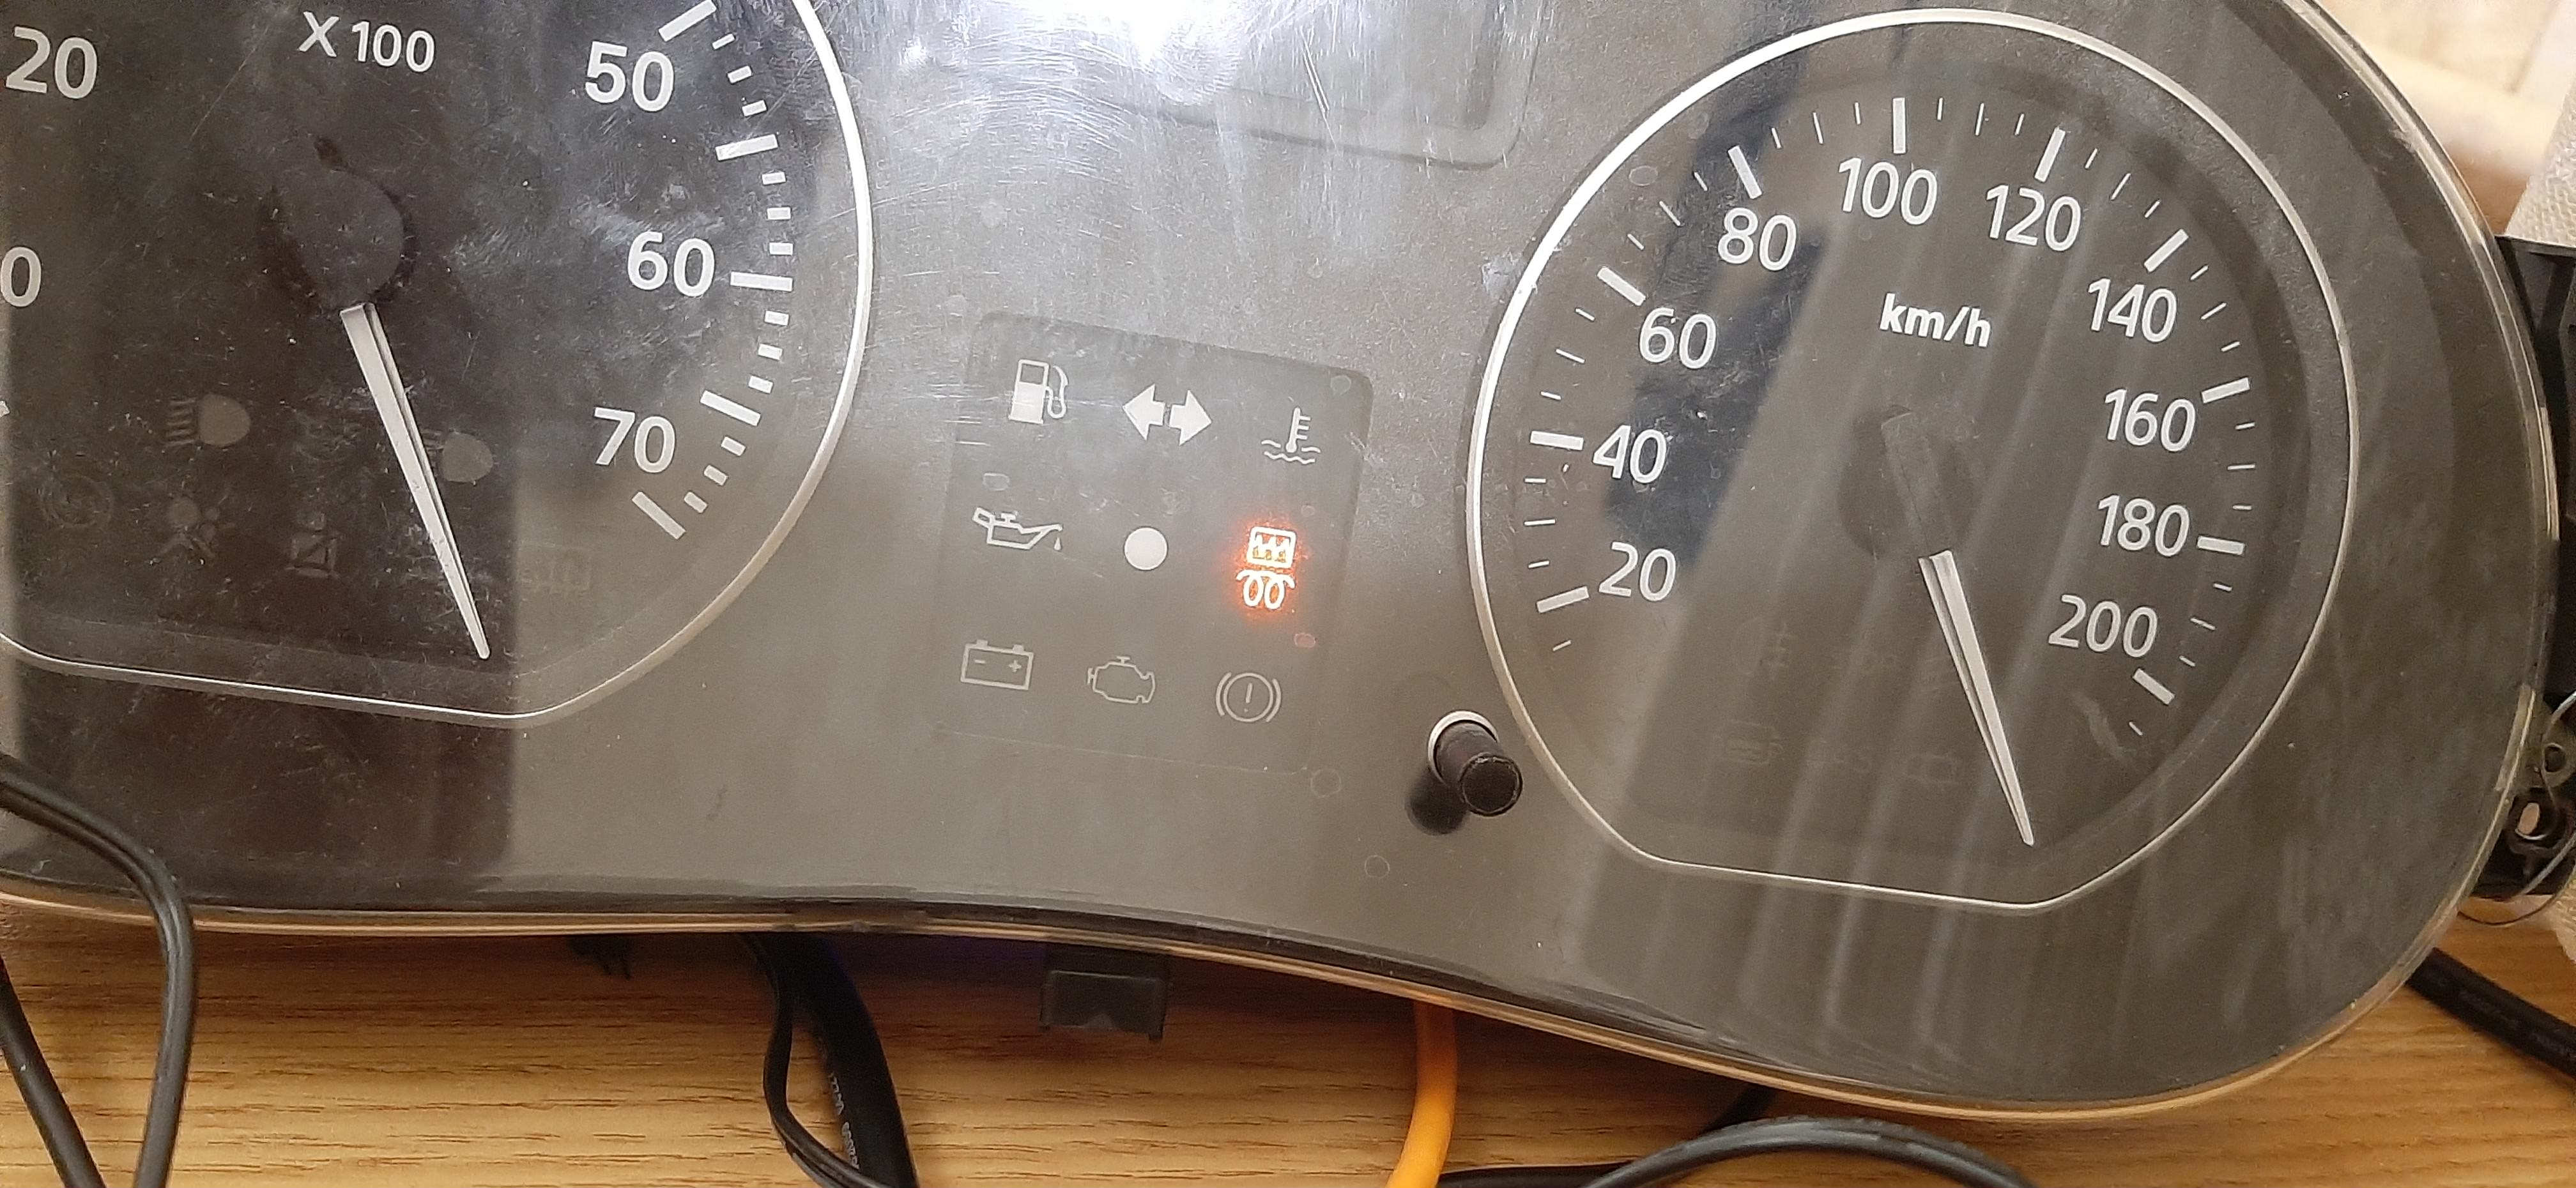diesel11: (1239, 524, 1299, 615)
